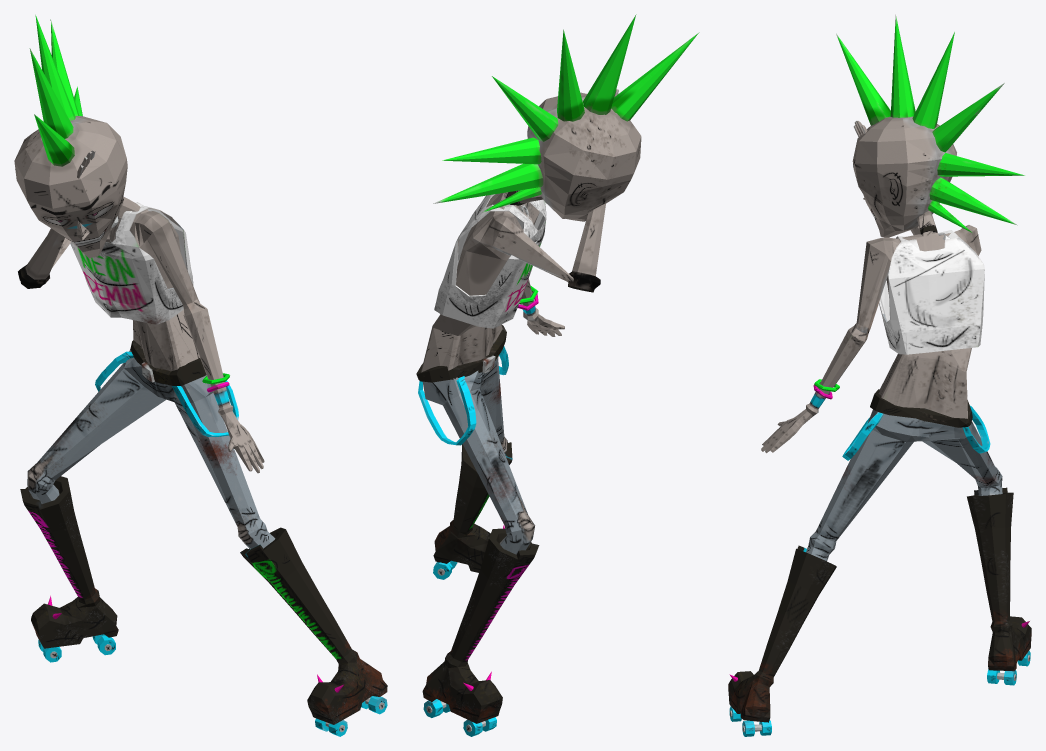
The model's file is punkAnimation_000020.obj.
3 views of the same model, side by side, from view 1: azimuth 30°, elevation 25°; view 2: azimuth 150°, elevation 25°; view 3: azimuth 270°, elevation 25° (orthographic). The views are drawn at different scales.
Parts seen in each view (by area): view 1: Cube.004_Cube.003; view 2: Cube.004_Cube.003; view 3: Cube.004_Cube.003.
Boxes of the visible parts, x1,y1,x2,y2 form: Cube.004_Cube.003: (14,15,387,736); Cube.004_Cube.003: (416,14,699,736); Cube.004_Cube.003: (728,14,1031,736).
Size of the model in its own units: 3.14 by 6.71 by 3.01.
